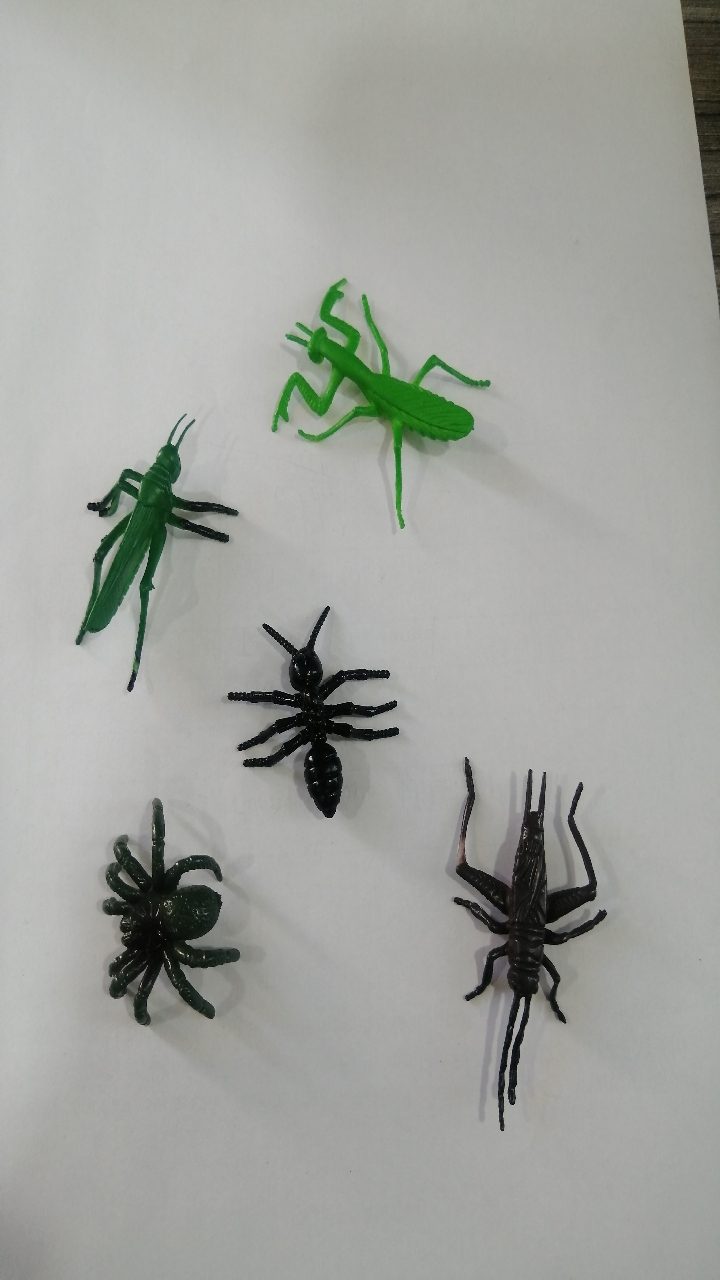intruso: (411, 717, 629, 1155), (232, 240, 514, 546), (31, 392, 251, 692), (72, 760, 277, 1060), (218, 588, 414, 834)
